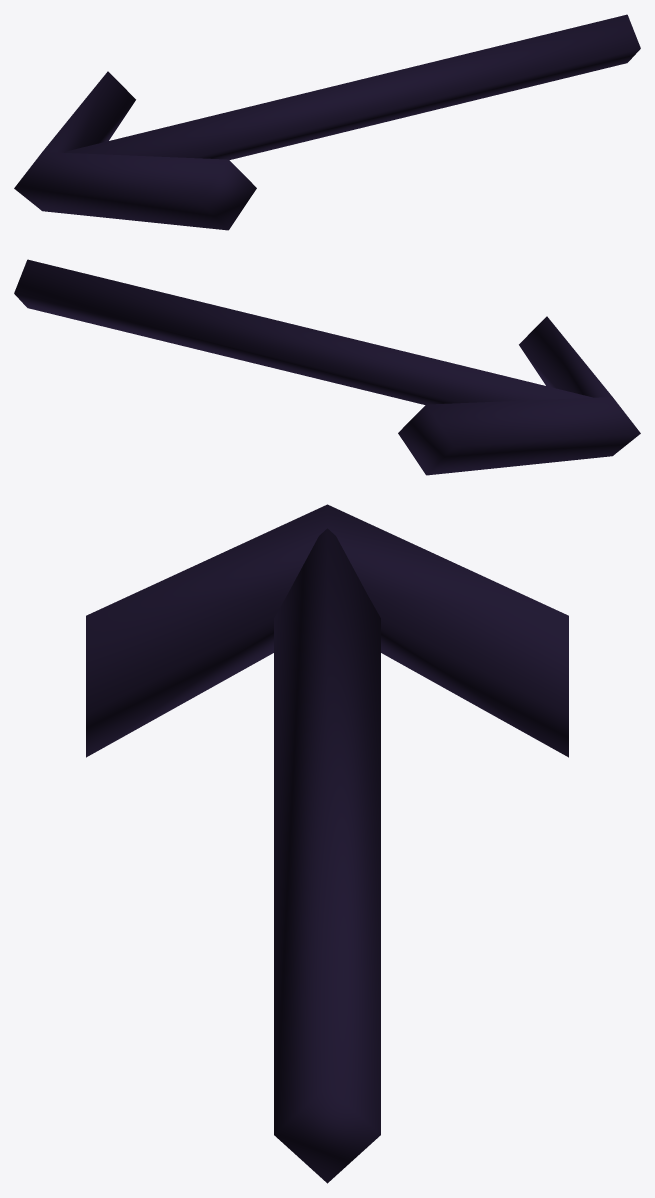
The model's file is Javelin.obj.
The picture shows the model from 3 angles, top to bottom: view 1: azimuth 30°, elevation 25°; view 2: azimuth 150°, elevation 25°; view 3: azimuth 270°, elevation 25°; orthographic projection. The views are drawn at different scales.
Parts seen in each view (by area): view 1: Visual; view 2: Visual; view 3: Visual.
Boxes of the visible parts, x1,y1,x2,y2 form: Visual: (14,14,640,230); Visual: (14,259,640,475); Visual: (86,504,568,1183).
Size of the model in its own units: 2.93 by 0.3241 by 1.
Materials: 1 (1 with a texture image).
